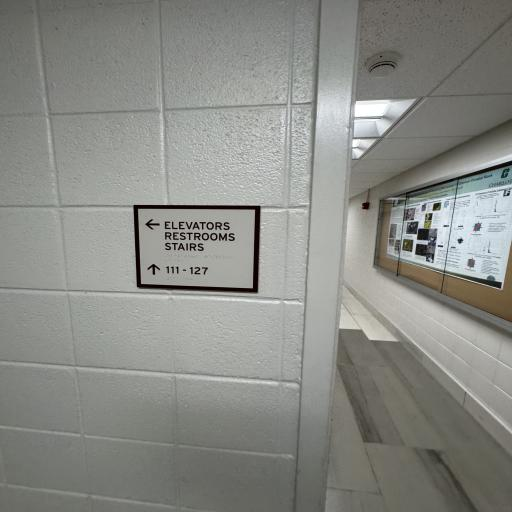fire alarm signal: (365, 46, 404, 81), (360, 200, 372, 210)
poster board: (382, 177, 506, 310)
sign: (131, 201, 263, 292)
